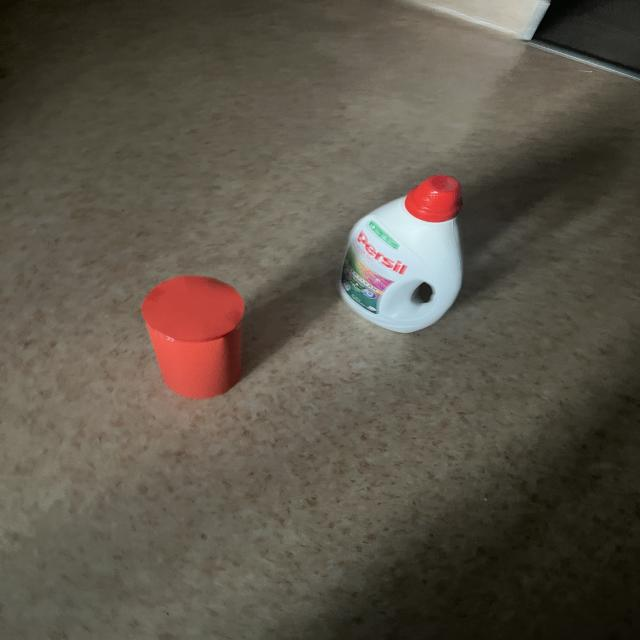przeszkoda: (141, 276, 244, 399)
